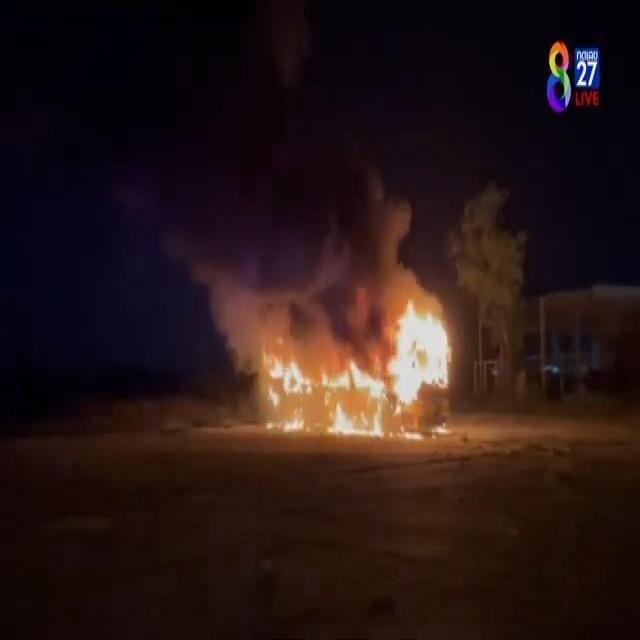Fire: (388, 304, 452, 398), (324, 406, 382, 436), (266, 350, 304, 393), (325, 364, 379, 392)
Smoke: (157, 6, 370, 348), (373, 182, 433, 302)
